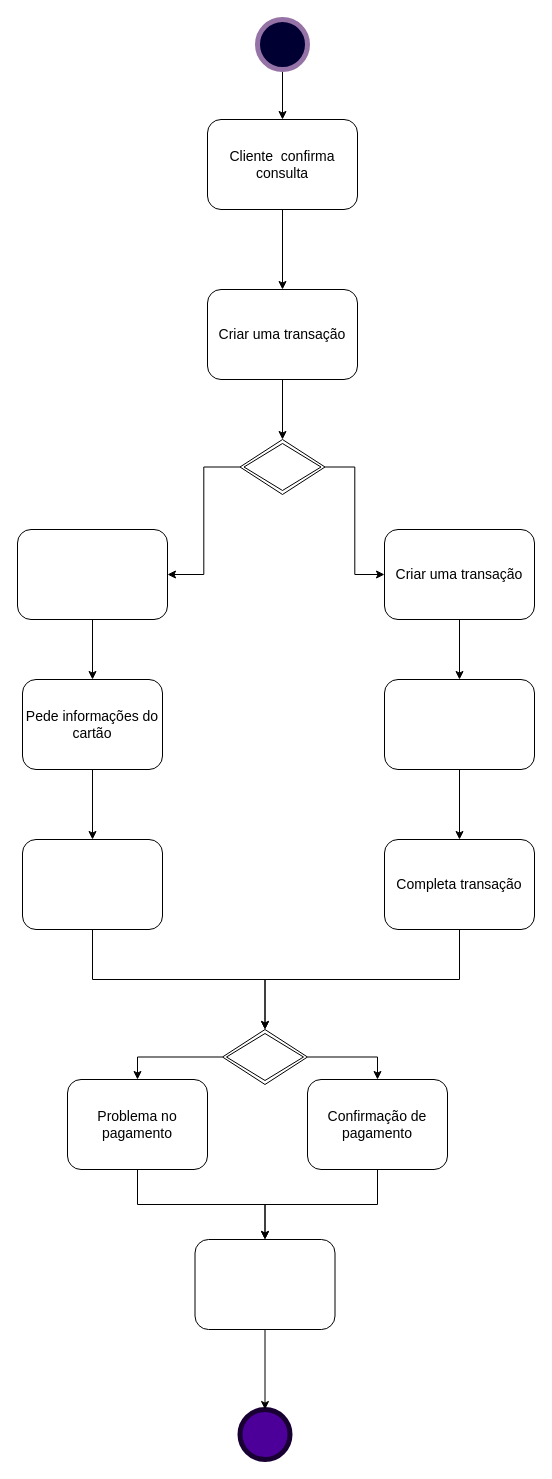
Image size: 552x1479. Some labels were removed from this diagram. The box of each missing label's shape, as (x1, y1, x2, y2) in pixels:
Cartão: (16, 528, 168, 620)
fecha transação: (194, 1238, 335, 1330)
MANDA CHAVE PIX: (384, 678, 534, 770)
Pede pagamento no banco: (22, 838, 162, 930)
